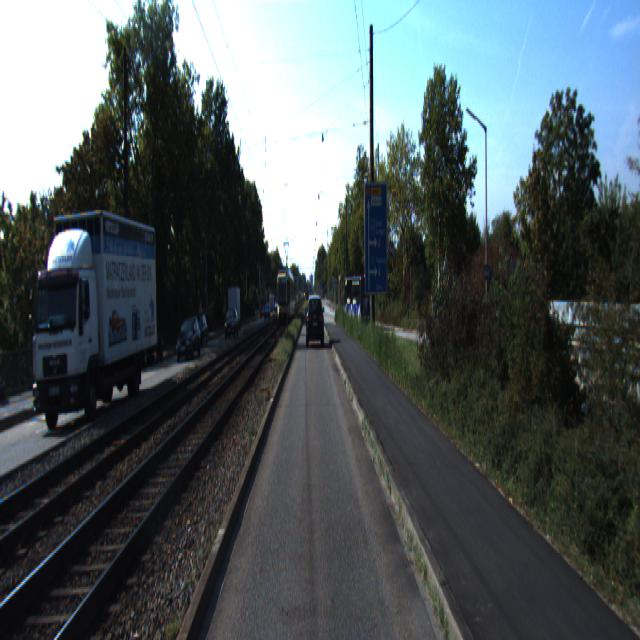Car: (31, 195, 159, 432), (344, 276, 374, 328), (175, 317, 202, 367), (307, 296, 323, 349)
